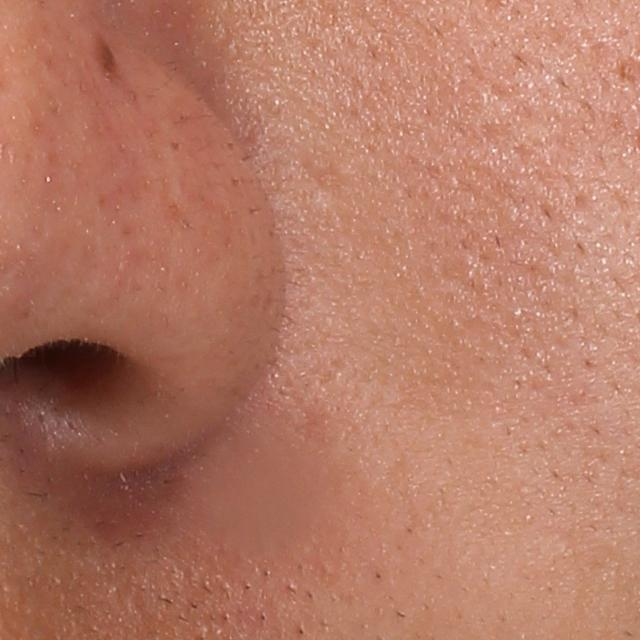nevus: (93, 40, 121, 80)
